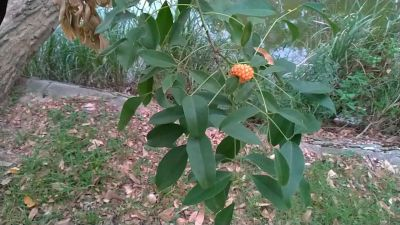eggs: (228, 62, 253, 86)
